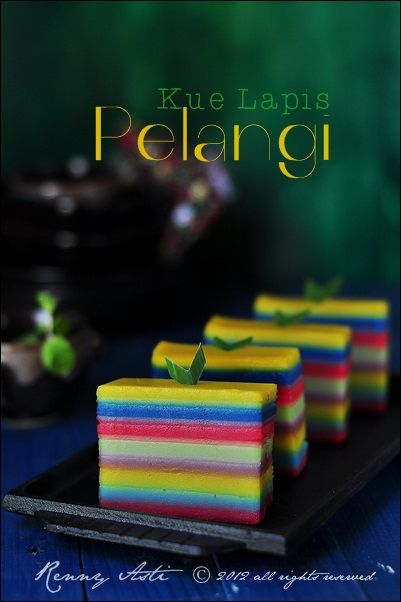kue_lapis_pelangi: (95, 377, 274, 525)
